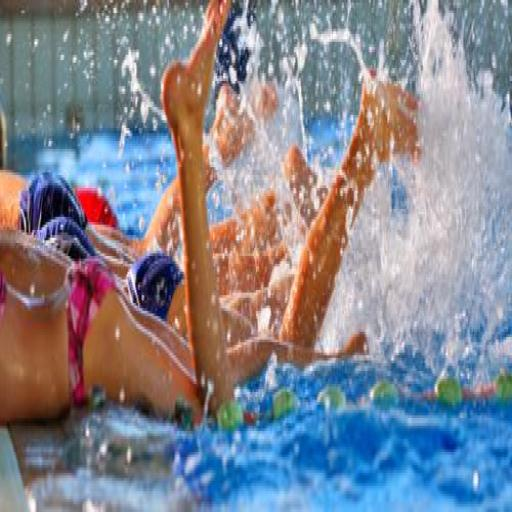swimming: (0, 0, 423, 431)
